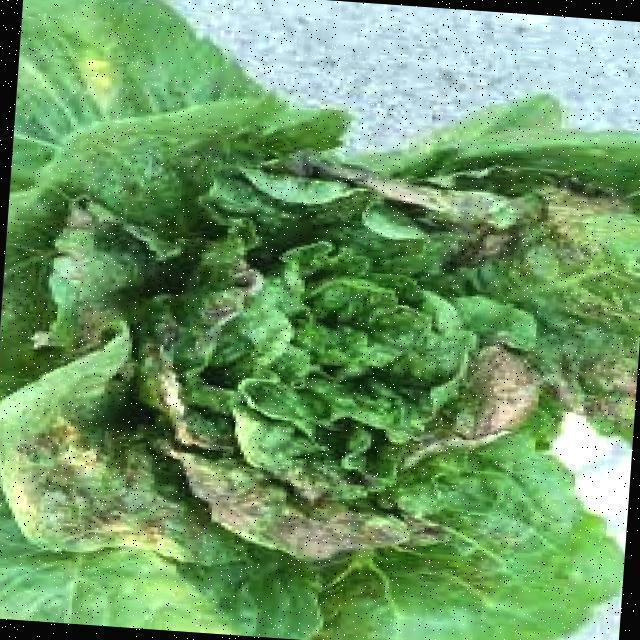Lettuce Mosaic Virus: (42, 103, 603, 615)
